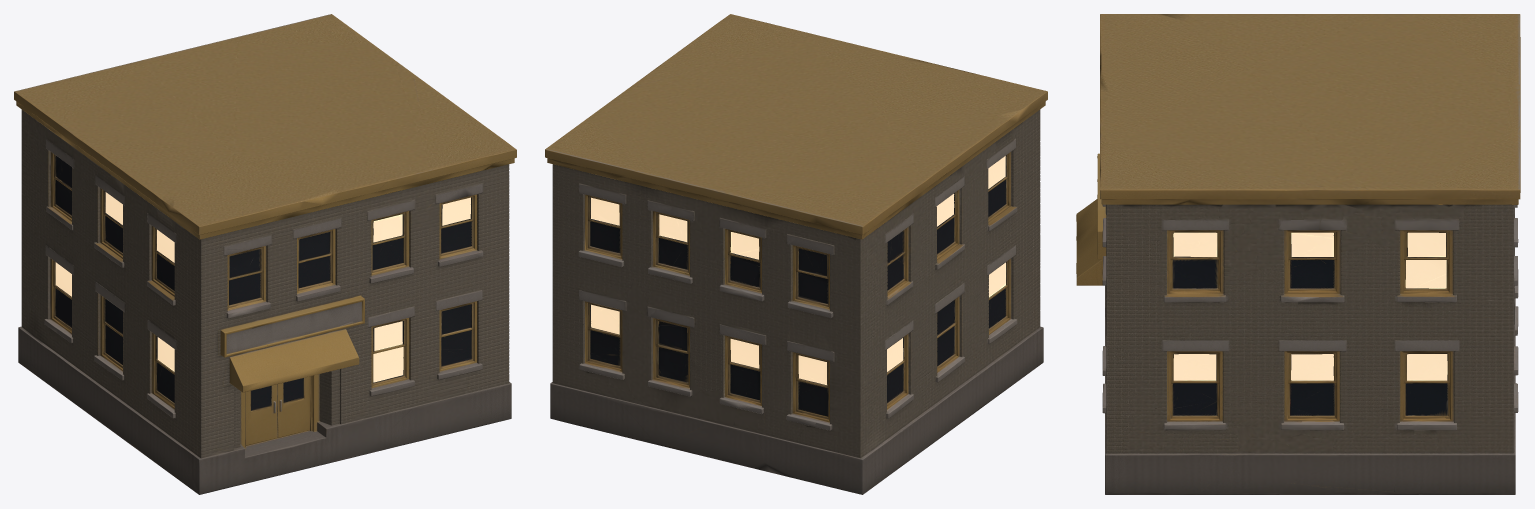
Rendered from crew-goldline-harbor.glb.
3 renders of one model, left to right at view 1: azimuth 30°, elevation 25°; view 2: azimuth 150°, elevation 25°; view 3: azimuth 270°, elevation 25°, orthographic. The views are drawn at different scales.
Bounding box in the file's own units: 9.84 × 8 × 10.49.
Materials: 3 (3 with a texture image).
